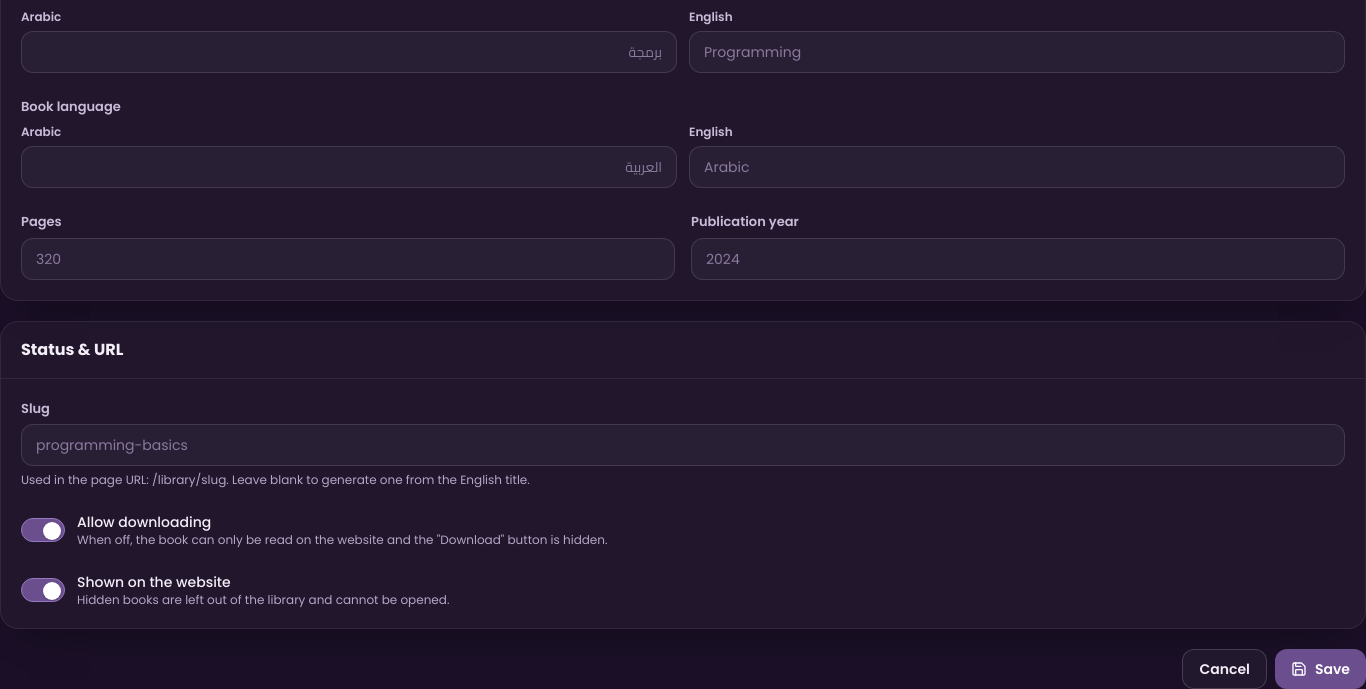
Test: BookCreate › needs the titles, the descriptions and the PDF
This screenshot has width=1366, height=689.
(page scrolled)
Click the button "Save".
click(1320, 669)  # box [1275, 649, 1365, 688]
(page scrolled)
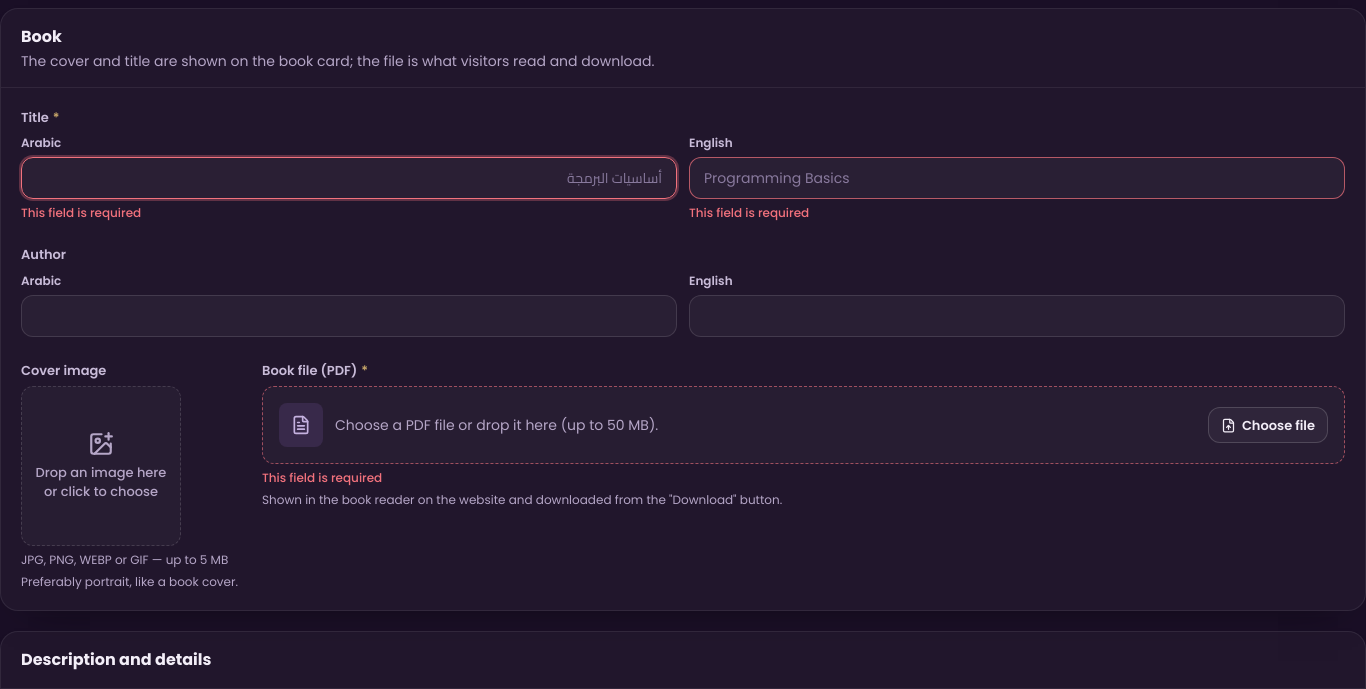
Check: the text "This field is required" is shown 5 times
